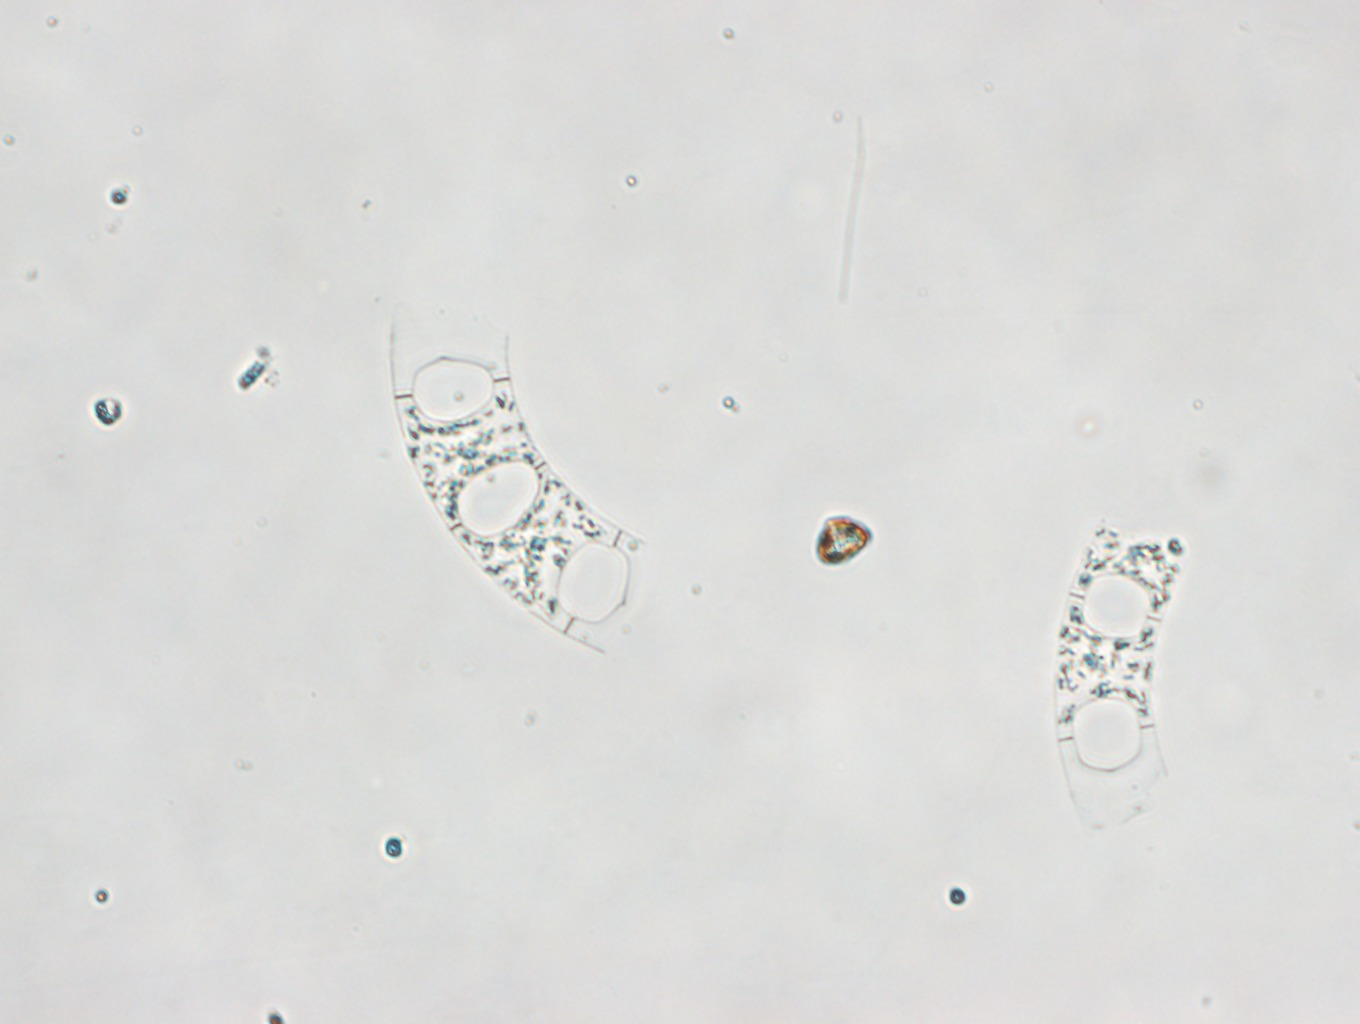eucampia: (388, 328, 648, 655), (1051, 517, 1190, 840)
